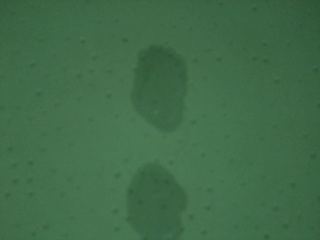Water_detected: (131, 51, 181, 119), (127, 177, 177, 232)
